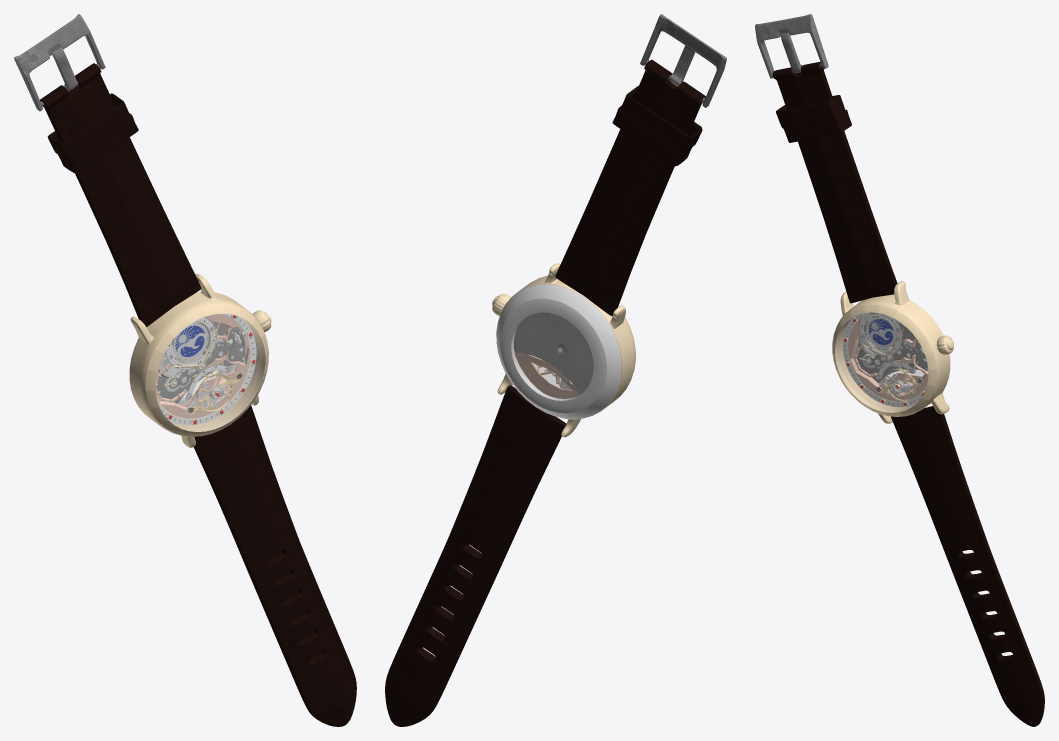
File: mechanical-watch.glb
The picture shows the model from 3 angles, left to right: view 1: azimuth 30°, elevation 25°; view 2: azimuth 150°, elevation 25°; view 3: azimuth 330°, elevation 25°; orthographic projection. The views are drawn at different scales.
Visible parts, largest first — view 1: Watch_Strap:Watch_Strap:Watch_Strap:Watch_Strap:Watch_S_d814, Watch_Strap:polySurface4, polySurface2, polySurface8, polySurface23, Watch_Strap:polySurface5, Watch_Strap:pCube1, pCylinder64, Watch_Strap:pCube2, pCylinder74, Watch_Strap:polySurface6; view 2: Watch_Strap:Watch_Strap:Watch_Strap:Watch_Strap:Watch_S_d814, Watch_Strap:polySurface4, polySurface9, polySurface10, pCylinder74, polySurface8, Watch_Strap:polySurface5, Watch_Strap:pCube1, Watch_Strap:pCube2, polySurface23; view 3: Watch_Strap:Watch_Strap:Watch_Strap:Watch_Strap:Watch_S_d814, Watch_Strap:polySurface4, polySurface2, polySurface8, polySurface23, Watch_Strap:polySurface5, pCylinder64, Watch_Strap:pCube1, Watch_Strap:pCube2, pCylinder74.
Boxes of the visible parts, left/top/right/bottom form: Watch_Strap:Watch_Strap:Watch_Strap:Watch_Strap:Watch_S_d814: left=193, top=405, right=356, bottom=726; Watch_Strap:polySurface4: left=40, top=63, right=201, bottom=326; polySurface2: left=156, top=314, right=264, bottom=431; polySurface8: left=129, top=274, right=268, bottom=447; polySurface23: left=155, top=314, right=250, bottom=418; Watch_Strap:polySurface5: left=14, top=14, right=105, bottom=111; Watch_Strap:pCube1: left=47, top=93, right=130, bottom=159; pCylinder64: left=157, top=313, right=256, bottom=425; Watch_Strap:pCube2: left=58, top=113, right=138, bottom=172; pCylinder74: left=156, top=322, right=242, bottom=403; Watch_Strap:polySurface6: left=51, top=47, right=78, bottom=91; Watch_Strap:Watch_Strap:Watch_Strap:Watch_Strap:Watch_S_d814: left=385, top=385, right=566, bottom=726; Watch_Strap:polySurface4: left=555, top=59, right=705, bottom=316; polySurface9: left=496, top=284, right=621, bottom=419; polySurface10: left=511, top=312, right=593, bottom=400; pCylinder74: left=514, top=312, right=593, bottom=394; polySurface8: left=496, top=263, right=635, bottom=437; Watch_Strap:polySurface5: left=640, top=14, right=726, bottom=107; Watch_Strap:pCube1: left=620, top=86, right=702, bottom=152; Watch_Strap:pCube2: left=612, top=105, right=691, bottom=166; polySurface23: left=514, top=352, right=580, bottom=398; Watch_Strap:Watch_Strap:Watch_Strap:Watch_Strap:Watch_S_d814: left=891, top=406, right=1044, bottom=726; Watch_Strap:polySurface4: left=772, top=62, right=897, bottom=303; polySurface2: left=835, top=313, right=927, bottom=412; polySurface8: left=832, top=281, right=950, bottom=423; polySurface23: left=848, top=316, right=928, bottom=401; Watch_Strap:polySurface5: left=755, top=14, right=828, bottom=78; pCylinder64: left=842, top=312, right=927, bottom=407; Watch_Strap:pCube1: left=776, top=95, right=845, bottom=127; Watch_Strap:pCube2: left=783, top=109, right=851, bottom=142; pCylinder74: left=857, top=319, right=925, bottom=382.
Bounding box in the file's own units: 0.1217 × 0.2645 × 0.016.
Materials: 23 (10 with a texture image).
